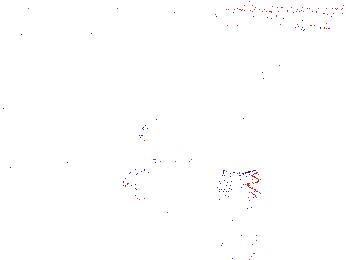flame jellyfish: (119, 156, 188, 226), (184, 168, 261, 226), (133, 113, 195, 179)
